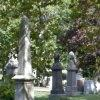Statue: (13, 27, 45, 100)
